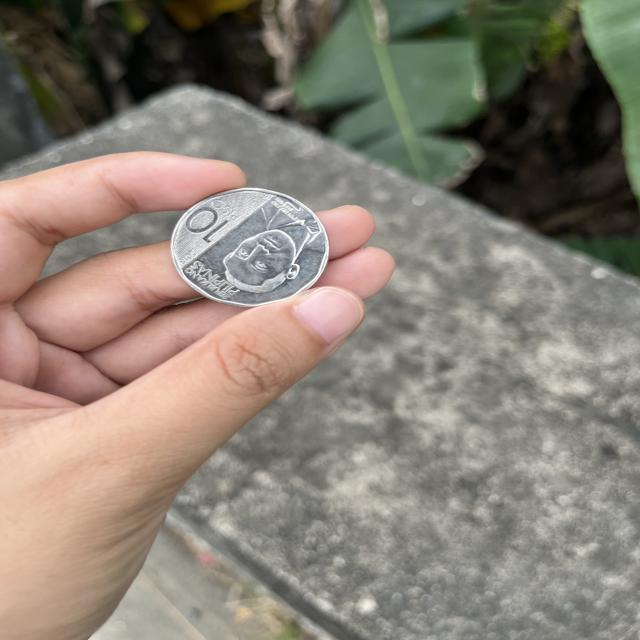10_New_Front: (178, 199, 241, 240)
